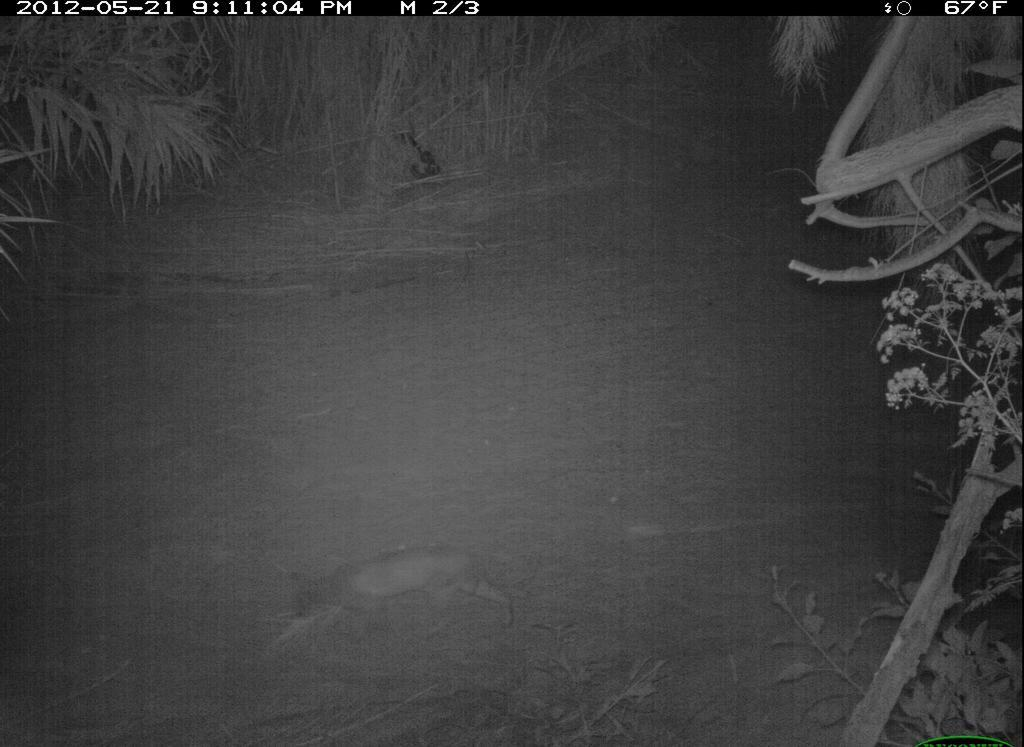bobcat: (299, 523, 520, 666)
